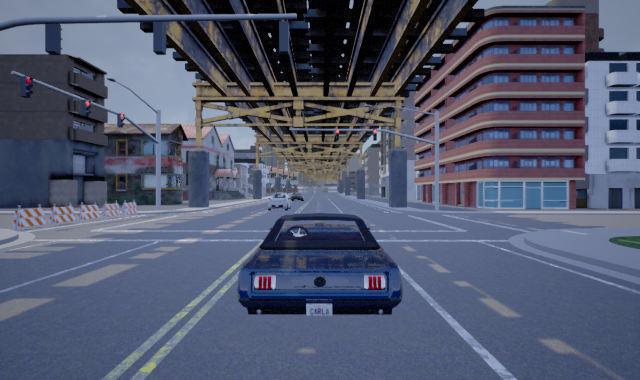vehicle: (237, 214, 402, 316), (266, 192, 292, 211), (289, 191, 306, 203)
